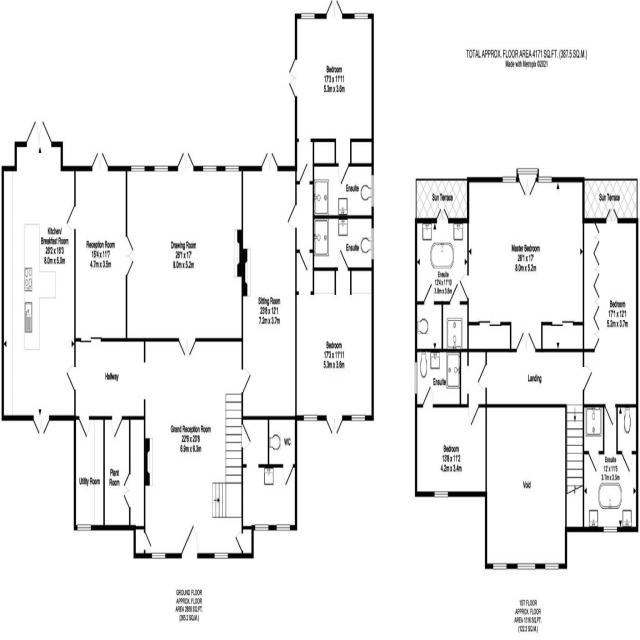DOOR: (179, 520, 200, 559), (299, 161, 311, 185), (287, 203, 297, 231), (66, 364, 76, 392), (299, 249, 311, 272), (66, 205, 76, 232), (467, 405, 479, 426), (583, 364, 592, 391)
DOUBLE DOOR: (516, 168, 540, 202), (25, 120, 53, 147), (286, 47, 299, 103), (516, 328, 537, 353), (125, 231, 135, 282), (260, 147, 280, 171), (31, 415, 52, 436), (177, 338, 198, 359), (325, 413, 345, 435), (91, 149, 109, 172), (325, 0, 344, 19), (177, 151, 194, 171)
ROOM: (1, 119, 76, 435), (467, 168, 585, 353), (288, 0, 374, 186), (241, 151, 297, 420), (295, 249, 374, 436), (582, 207, 639, 427), (415, 404, 487, 497)
WINDOW: (301, 11, 316, 20), (255, 524, 269, 532), (276, 524, 290, 532), (202, 165, 217, 172), (354, 13, 369, 20), (371, 227, 374, 261), (371, 174, 374, 208), (603, 526, 617, 533), (434, 491, 448, 498), (351, 415, 365, 422), (131, 165, 145, 172), (154, 165, 168, 172), (225, 165, 239, 172), (303, 415, 318, 421), (415, 361, 417, 395)
